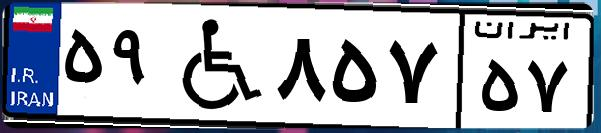5: (330, 28, 385, 110), (57, 26, 110, 100), (475, 38, 525, 113)
7: (385, 28, 445, 110), (525, 38, 570, 115)
8: (270, 28, 330, 110)
9: (110, 28, 158, 98)
ژ (معلولین و جانبازان): (158, 12, 270, 120)
